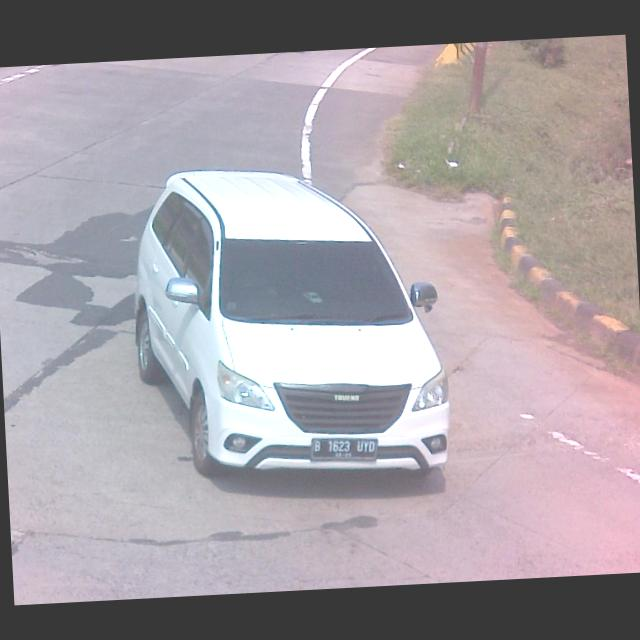plate: (308, 432, 384, 466)
